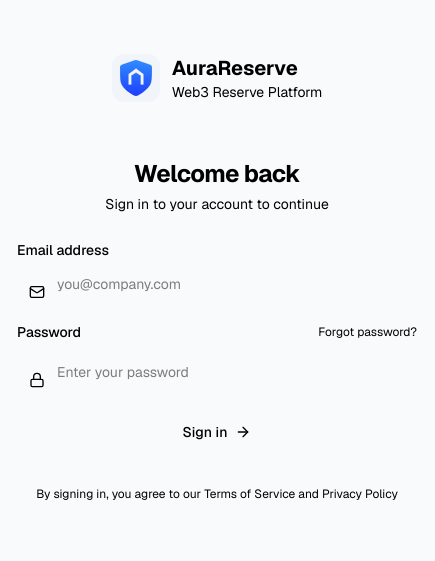
credentials sign-in flow › shows the invalid credentials alert and stays on "/auth/signin" when authentication fails
Type "user@example.com" into the field labelled "Email address" at coordinates (217, 284), box x1=17 y1=262 x2=417 y2=306
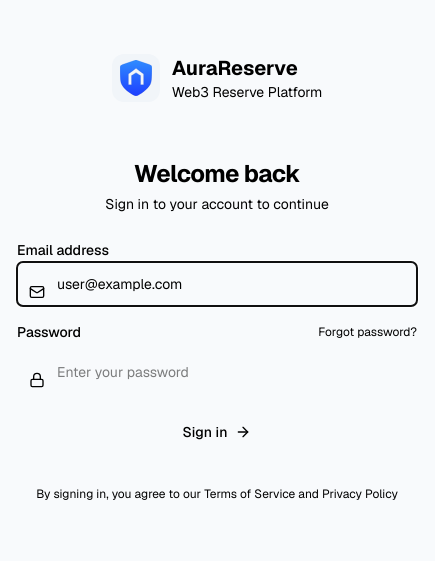
Type "wrong-password" into the password field labelled "Password" at coordinates (217, 372), box x1=17 y1=350 x2=417 y2=394
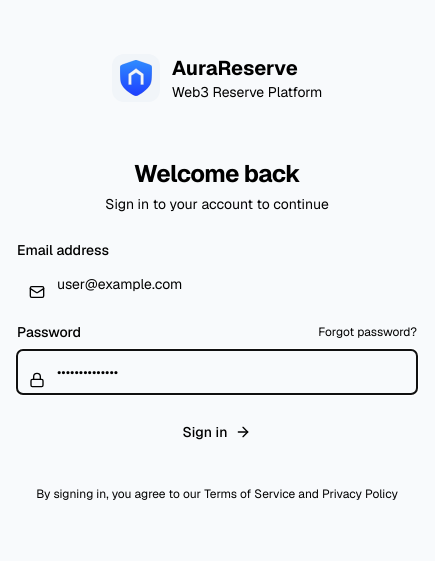
Click the button "Sign in" at coordinates (217, 432), box x1=17 y1=410 x2=417 y2=454
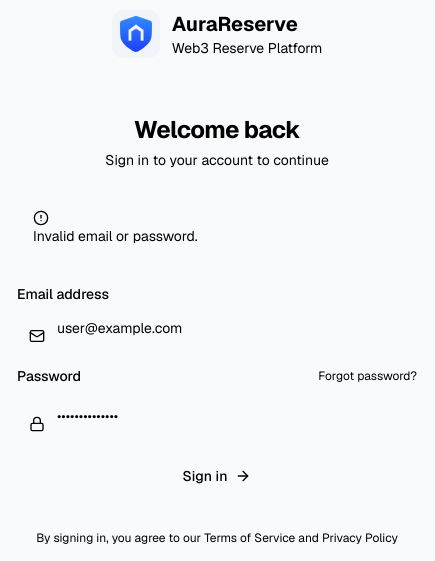
Result: the text "Invalid email or password." is shown at x1=33 y1=227 x2=198 y2=245
